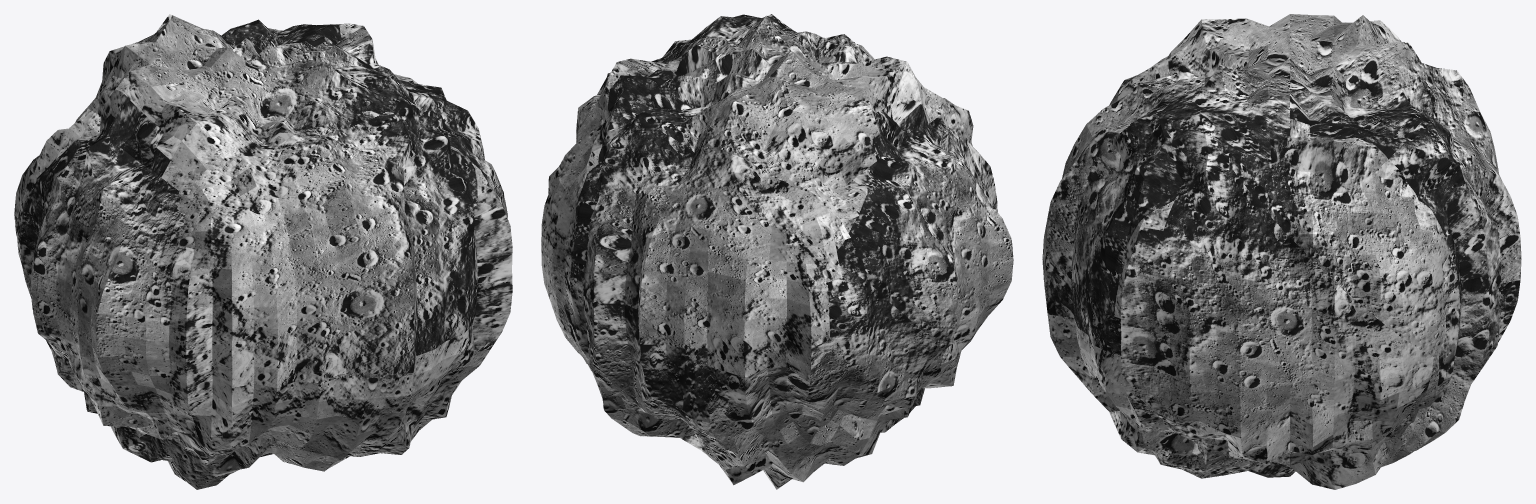
File: asteroid49.obj
3 views of the same model, side by side, from view 1: azimuth 30°, elevation 25°; view 2: azimuth 150°, elevation 25°; view 3: azimuth 270°, elevation 25° (orthographic). The views are drawn at different scales.
Parts seen in each view (by area): view 1: Cube_Cube.002; view 2: Cube_Cube.002; view 3: Cube_Cube.002.
Boxes of the visible parts, <box> form: Cube_Cube.002: <box>14,14,512,489</box>; Cube_Cube.002: <box>541,14,1013,489</box>; Cube_Cube.002: <box>1042,14,1521,489</box>.
Bounding box in the file's own units: 1.8 × 1.77 × 1.8.
